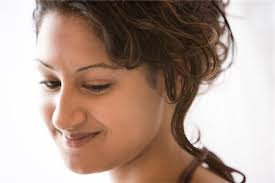indian_female: (16, 1, 207, 179)
